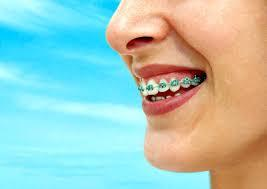Braces: (138, 76, 206, 104)
